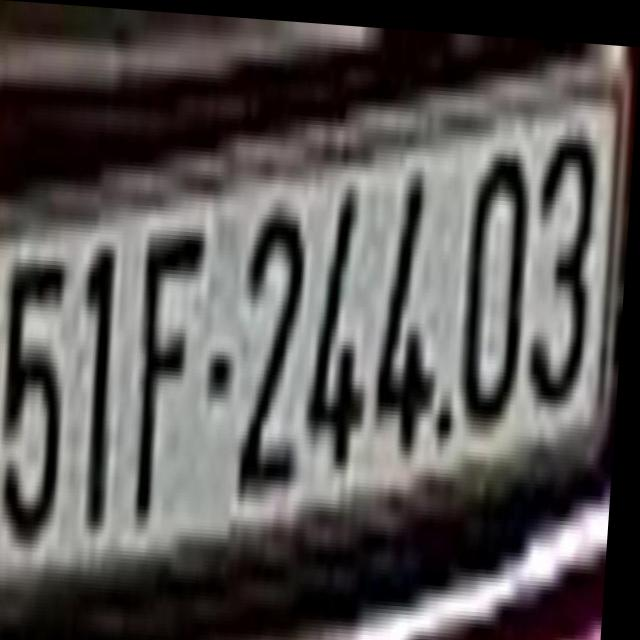0: (459, 132, 538, 447)
1: (70, 223, 133, 543)
2: (233, 194, 316, 503)
3: (527, 109, 600, 400)
4: (376, 143, 452, 454), (309, 166, 385, 473)
5: (0, 246, 78, 552)
F: (135, 211, 213, 537)
